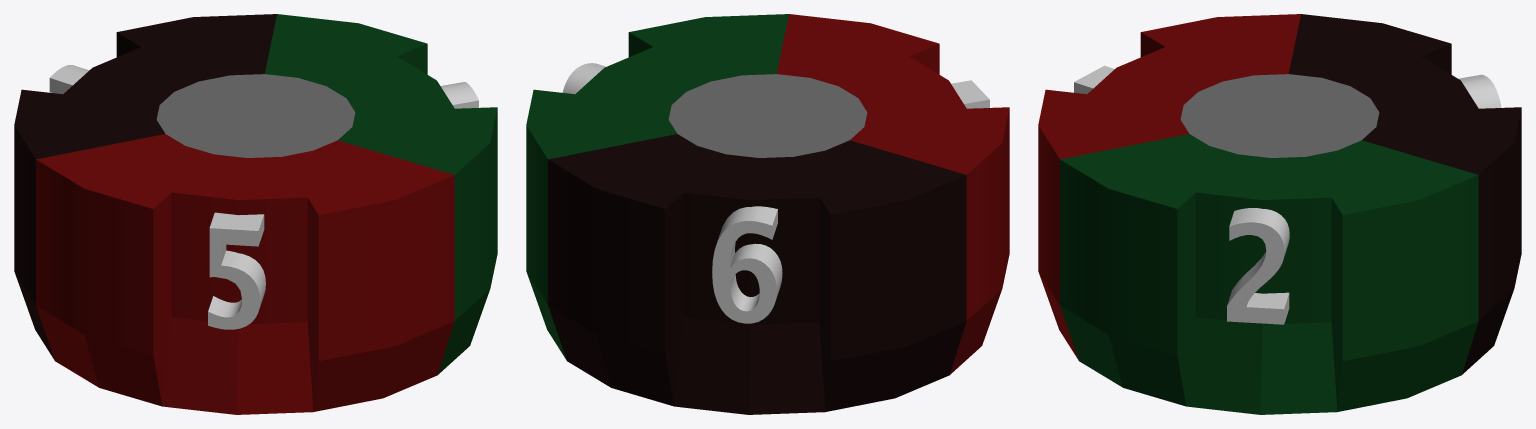
File: NumberMeshes-Down_low.fbx
3 views of the same model, side by side, from view 1: azimuth 30°, elevation 25°; view 2: azimuth 150°, elevation 25°; view 3: azimuth 270°, elevation 25° (orthographic).
Parts seen in each view (by area): view 1: NumberMesh-Down_low; view 2: NumberMesh-Down_low; view 3: NumberMesh-Down_low.
Boxes of the visible parts, box(x1,y1,x2,y2) form: NumberMesh-Down_low: box(14, 14, 497, 414); NumberMesh-Down_low: box(526, 14, 1009, 414); NumberMesh-Down_low: box(1038, 14, 1521, 414).
Size of the model in its own units: 13.69 by 6.5 by 13.86.
